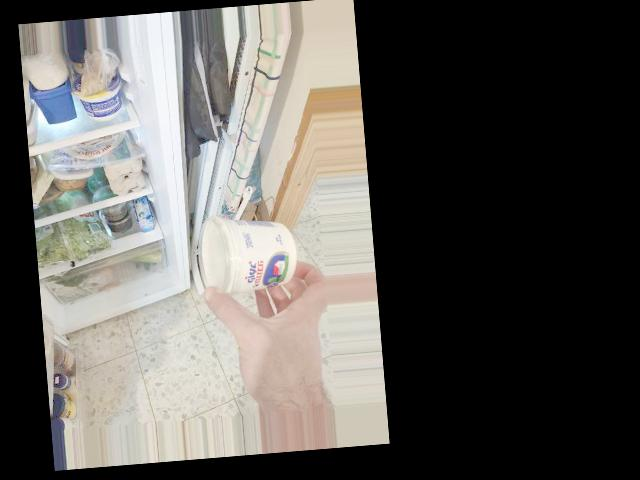cotage: (202, 218, 292, 302)
